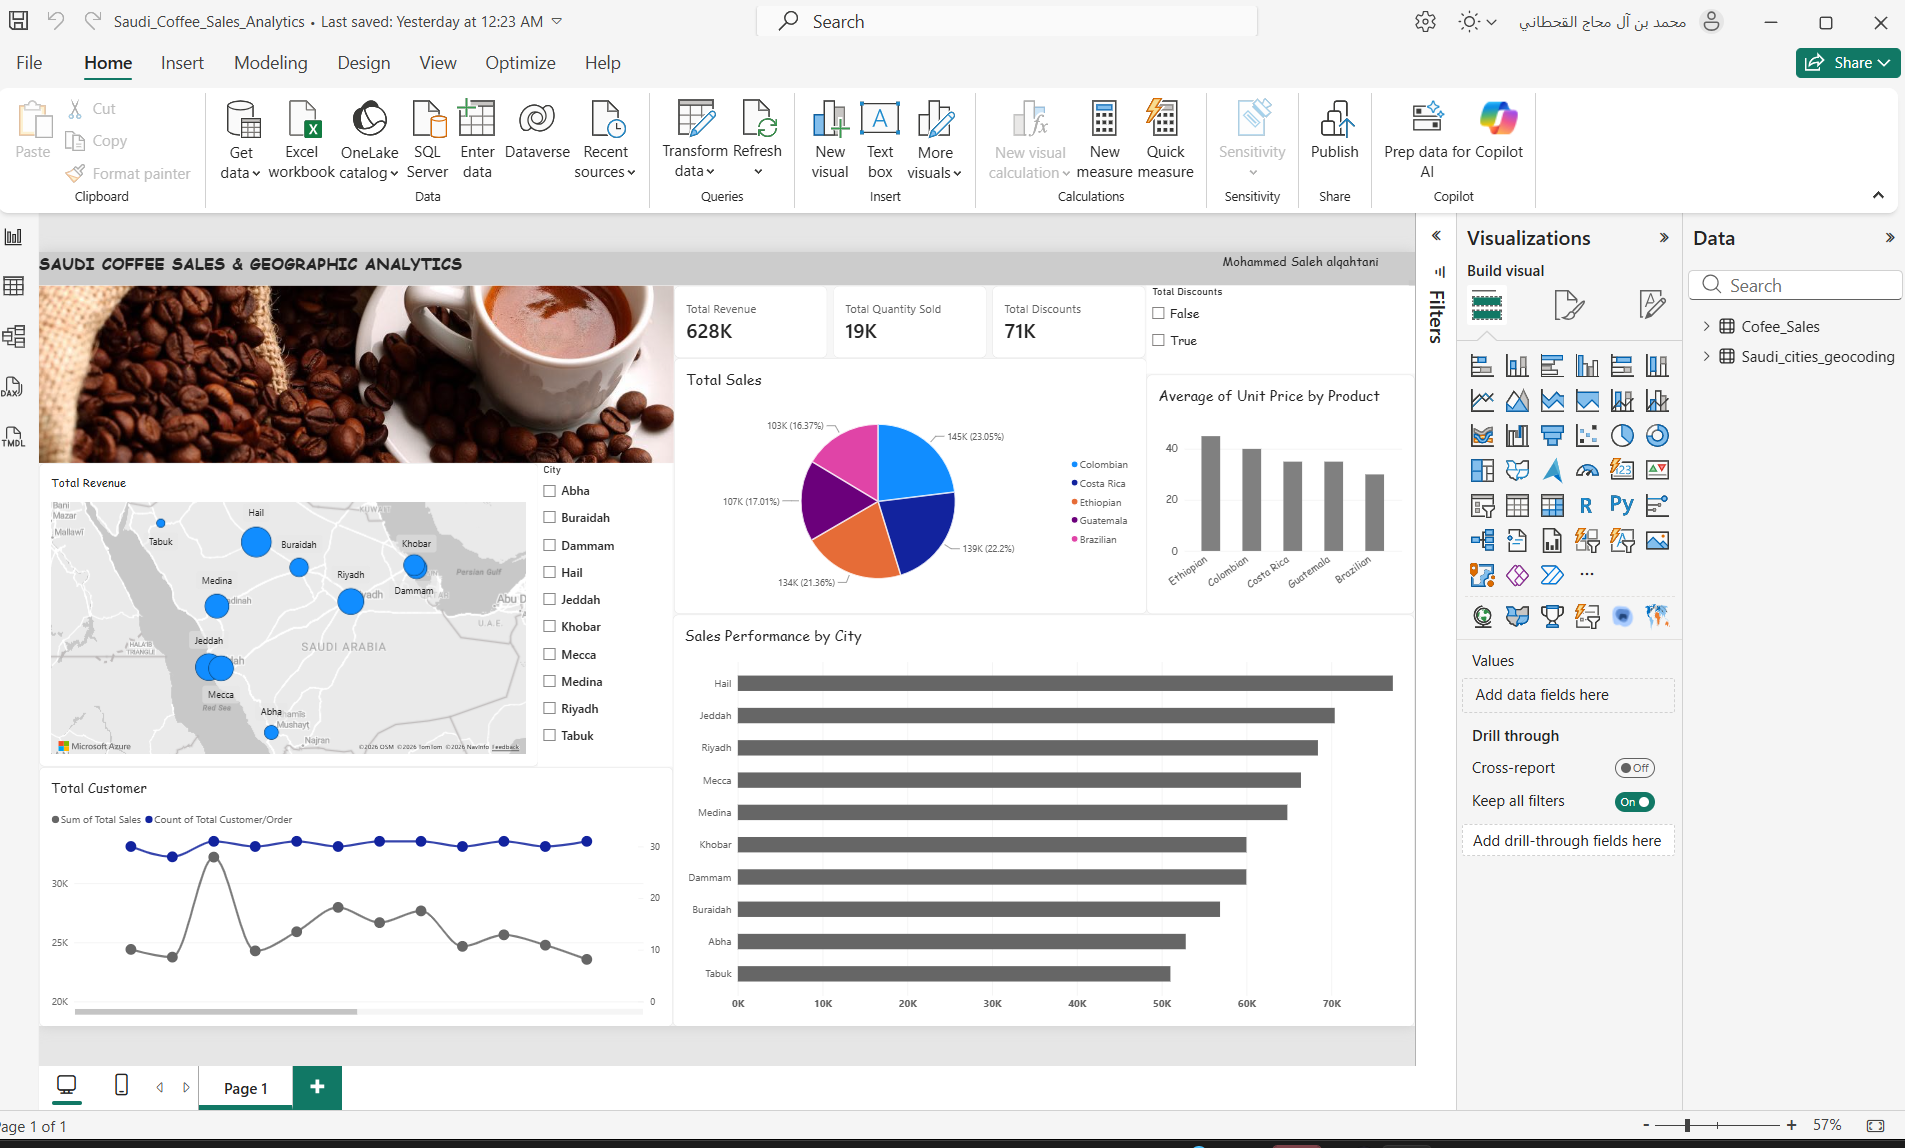

This screenshot's page, from the dashboard's own definition file:
{"tool":"powerbi","page":{"name":"Page 1","canvas":[1920,1080],"ordinal":0},"visuals":[{"type":"azureMap","title":"Total Revenue","fields":{"Category":["Cofee_Sales.City"],"Size":["Sum(Cofee_Sales.Final Sales)"]},"box":[0,294.3,697.1,422.9],"z":0},{"type":"textbox","title":"SAUDI COFFEE SALES & GEOGRAPHIC ANALYTICS                           ","box":[0,0,1920.4,47.1],"z":1000},{"type":"image","box":[0,47.1,885.7,247.1],"z":2000},{"type":"cardVisual","fields":{"Data":["Sum(Cofee_Sales.Total Sales)","Sum(Cofee_Sales.Total Quantity Sold)","Sum(Cofee_Sales.Discount_Amount)"]},"box":[885.7,47.1,660,101.4],"z":3000},{"type":"lineChart","title":"Total Customer","fields":{"Category":["Cofee_Sales.Date.Variation.Date Hierarchy.Year","Cofee_Sales.Date.Variation.Date Hierarchy.Month"],"Y":["Sum(Cofee_Sales.Total Sales)"],"Y2":["CountNonNull(Cofee_Sales.Total Customer/Order)"]},"box":[0,718.3,885,362.5],"z":4000},{"type":"slicer","fields":{"Values":["Cofee_Sales.City"]},"box":[696.7,295,188.3,423.3],"z":5000},{"type":"pieChart","title":" Total Sales","fields":{"Category":["Cofee_Sales.Product"],"Y":["Sum(Cofee_Sales.Total Sales)"]},"box":[885.7,148.6,660,357.1],"z":6000},{"type":"clusteredBarChart","title":"Sales Performance by City","fields":{"Category":["Cofee_Sales.City"],"Y":["Sum(Cofee_Sales.Total Sales)"]},"box":[885,505,1035,575],"z":7000},{"type":"slicer","fields":{"Values":["Cofee_Sales.Used_Discount"]},"box":[1545,47.5,375,122.5],"z":8000},{"type":"clusteredColumnChart","fields":{"Category":["Cofee_Sales.Product"],"Y":["Avg(Cofee_Sales.Unit Price)"]},"box":[1545,171.7,374,334],"z":9000},{"type":"textbox","title":"Mohammed Saleh alqahtani","box":[1601.7,0,318.3,46.7],"z":9001}]}

Visuals, with their boxes on the page's 1920x1080 design canvas (x1, y1, x2, y2). These are canvas units, not pixel positions in the 1905x1148 screenshot, which may show the page scaled, cropped or inside an application window:
"Total Revenue" azureMap: 0/294/697/717
"SAUDI COFFEE SALES & GEOGRAPHIC ANALYTICS                           " textbox: 0/0/1920/47
image: 0/47/886/294
cardVisual - Sum(Cofee_Sales.Total Sales) x Sum(Cofee_Sales.Total Quantity Sold): 886/47/1546/148
"Total Customer" lineChart: 0/718/885/1081
slicer - Cofee_Sales.City: 697/295/885/718
" Total Sales" pieChart: 886/149/1546/506
"Sales Performance by City" clusteredBarChart: 885/505/1920/1080
slicer - Cofee_Sales.Used_Discount: 1545/48/1920/170
clusteredColumnChart - Cofee_Sales.Product x Avg(Cofee_Sales.Unit Price): 1545/172/1919/506
"Mohammed Saleh alqahtani" textbox: 1602/0/1920/47
